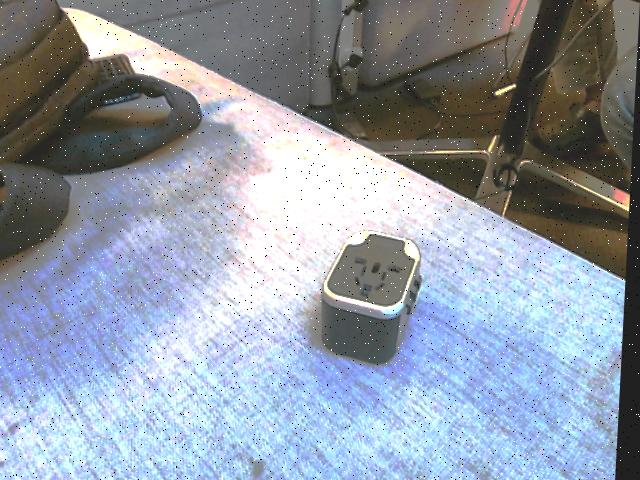adapter: (321, 230, 427, 364)
